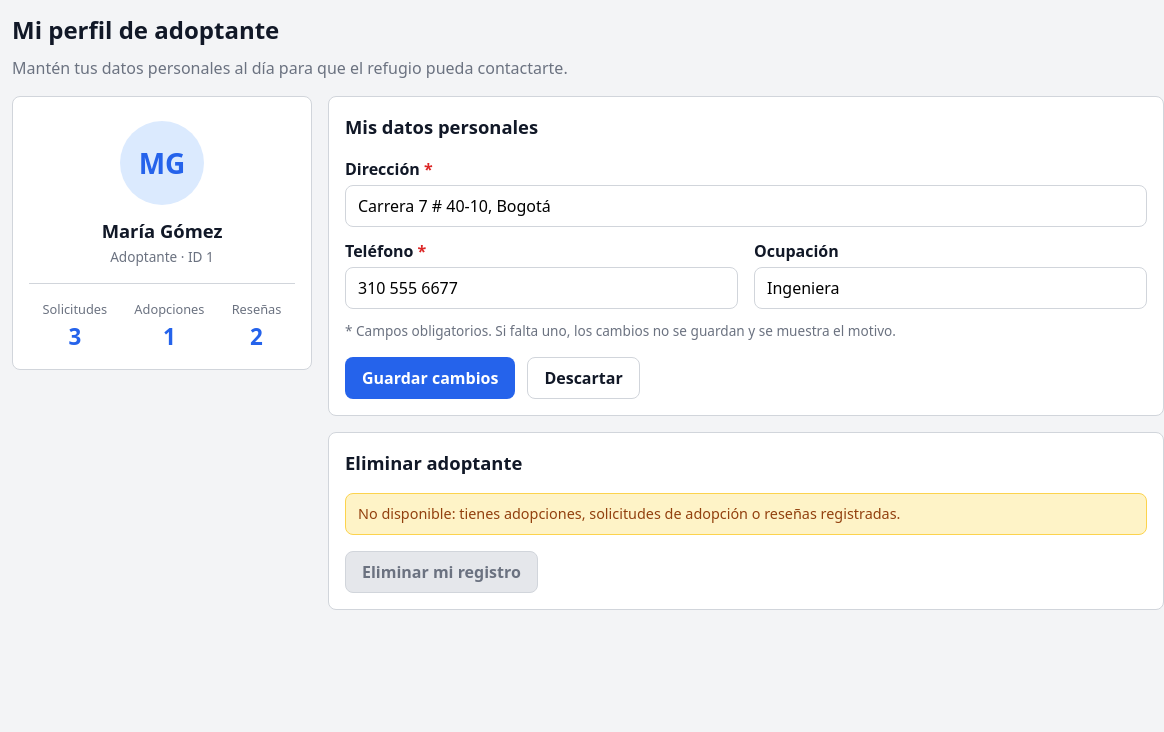
Test: ProfilePage (HU12) › saves the changes
This screenshot has width=1164, height=732.
Replace the text in the field labelled "Ocupación" with "Médica" at (950, 288), box [754,267,1147,309]
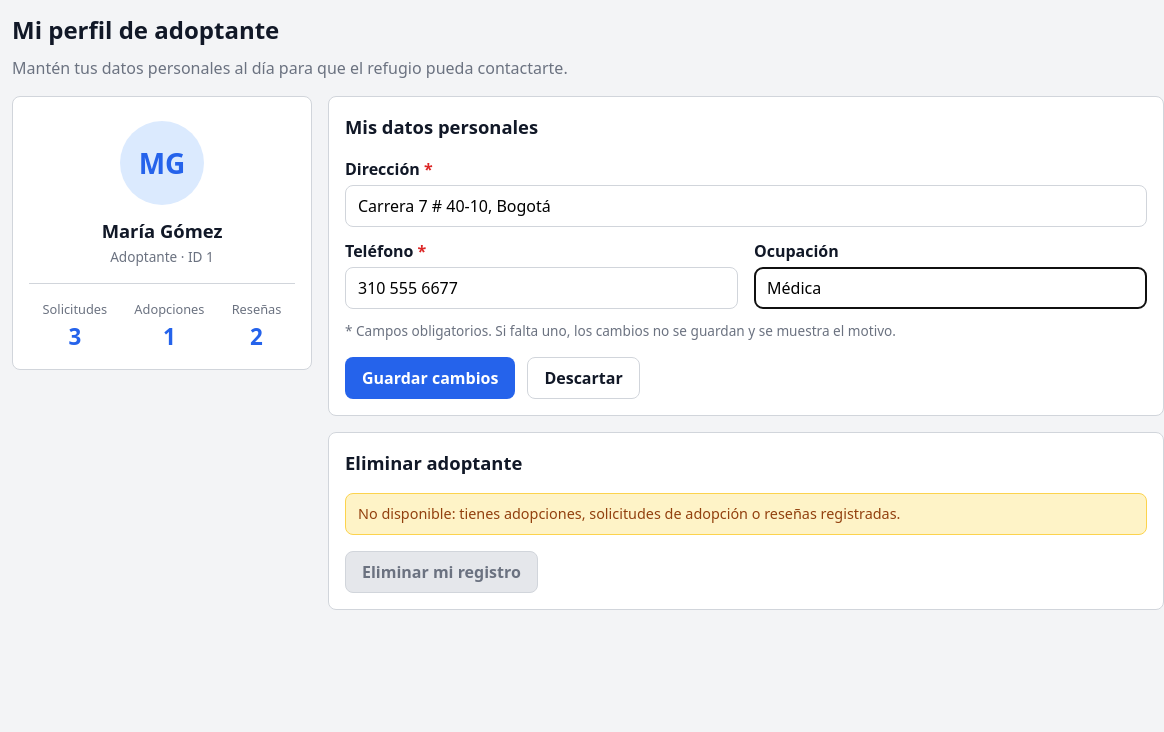
Click the button "Guardar cambios" at (430, 378), box [345,357,515,399]
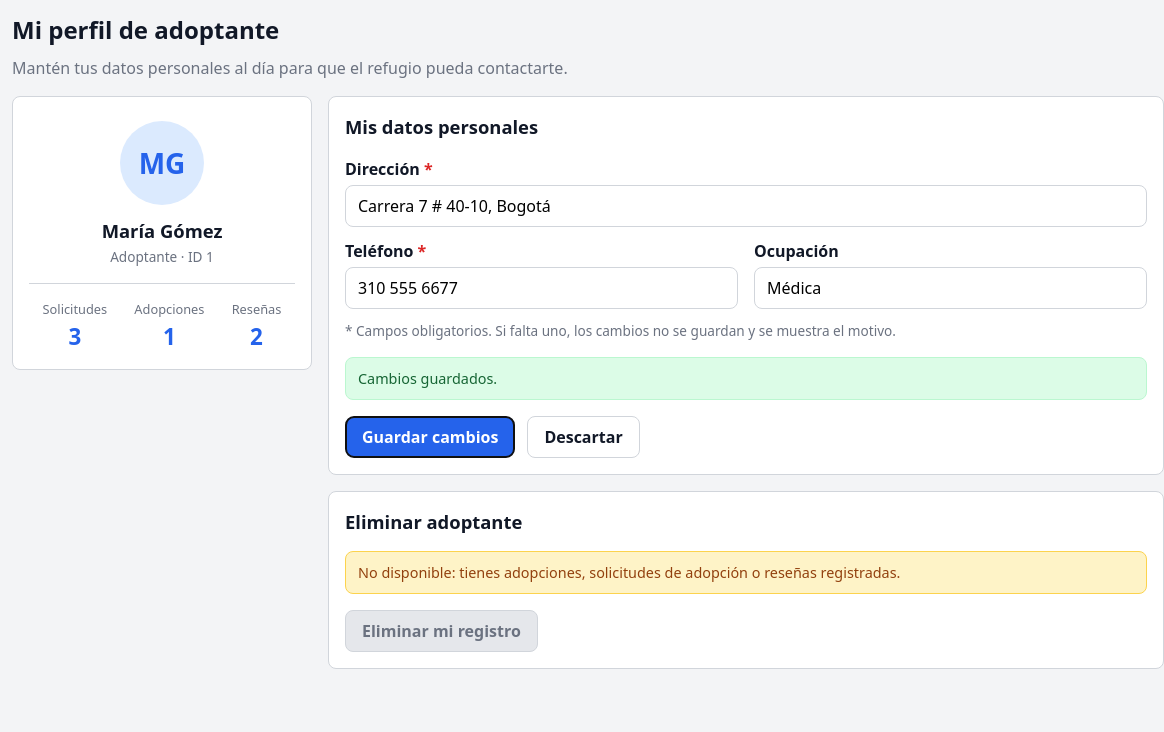
Expected: the message reads "Cambios guardados.", [358,369,497,388]
